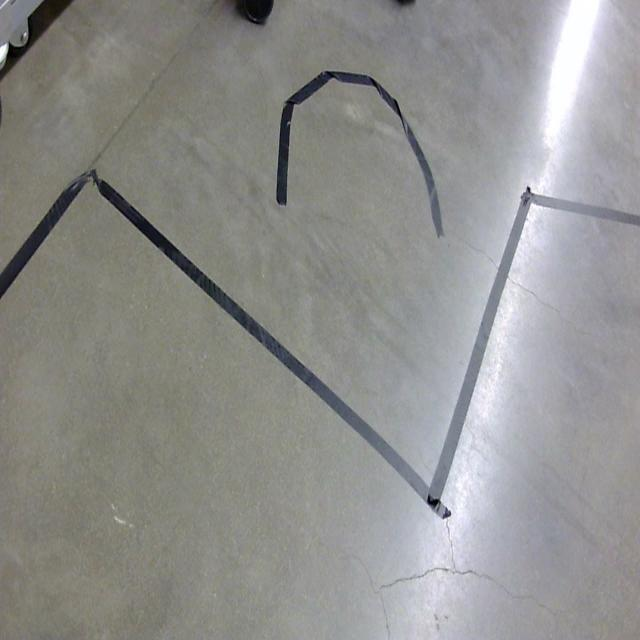tape: (0, 170, 450, 519), (427, 187, 640, 520), (275, 70, 448, 236)
